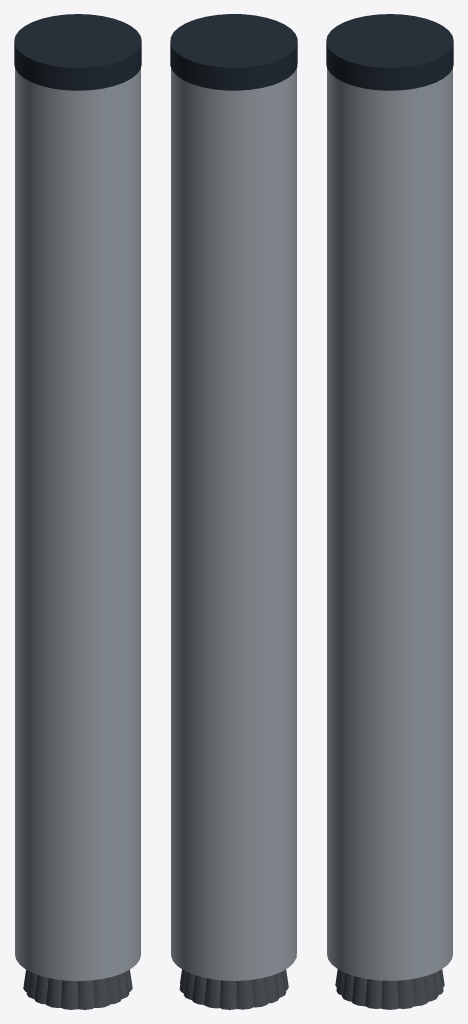
File: starship-stage-1.glb
3 views of the same model, side by side, from view 1: azimuth 90°, elevation 25°; view 2: azimuth 150°, elevation 25°; view 3: azimuth 270°, elevation 25° (orthographic).
Visible parts, largest first — view 1: body-0, interstage-0, engine-0-9, engine-0-10, engine-0-8, engine-0-11, engine-0-7, engine-0-12; view 2: body-0, interstage-0, engine-0-12, engine-0-13, engine-0-14, engine-0-11, engine-0-15, engine-0-10; view 3: body-0, interstage-0, engine-0-0, engine-0-1, engine-0-18, engine-0-2, engine-0-17.
Boxes of the visible parts, x1,y1,x2,y2 form: body-0: (15, 68, 140, 980); interstage-0: (14, 14, 141, 90); engine-0-9: (78, 980, 94, 1009); engine-0-10: (61, 980, 77, 1009); engine-0-8: (93, 978, 109, 1007); engine-0-11: (46, 978, 62, 1007); engine-0-7: (107, 975, 121, 1004); engine-0-12: (34, 975, 48, 1004); body-0: (171, 68, 296, 980); interstage-0: (170, 14, 297, 90); engine-0-12: (236, 980, 253, 1009); engine-0-13: (220, 980, 236, 1009); engine-0-14: (204, 978, 220, 1008); engine-0-11: (252, 977, 267, 1007); engine-0-15: (192, 975, 206, 1004); engine-0-10: (265, 974, 279, 1003); body-0: (327, 68, 452, 980); interstage-0: (326, 14, 453, 90); engine-0-0: (381, 980, 398, 1009); engine-0-1: (365, 979, 382, 1008); engine-0-18: (397, 979, 414, 1008); engine-0-2: (351, 976, 367, 1006); engine-0-17: (412, 976, 428, 1006).
Size of the model in its own units: 9.11 by 74.48 by 9.11.
